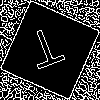T: (25, 25, 70, 79)
